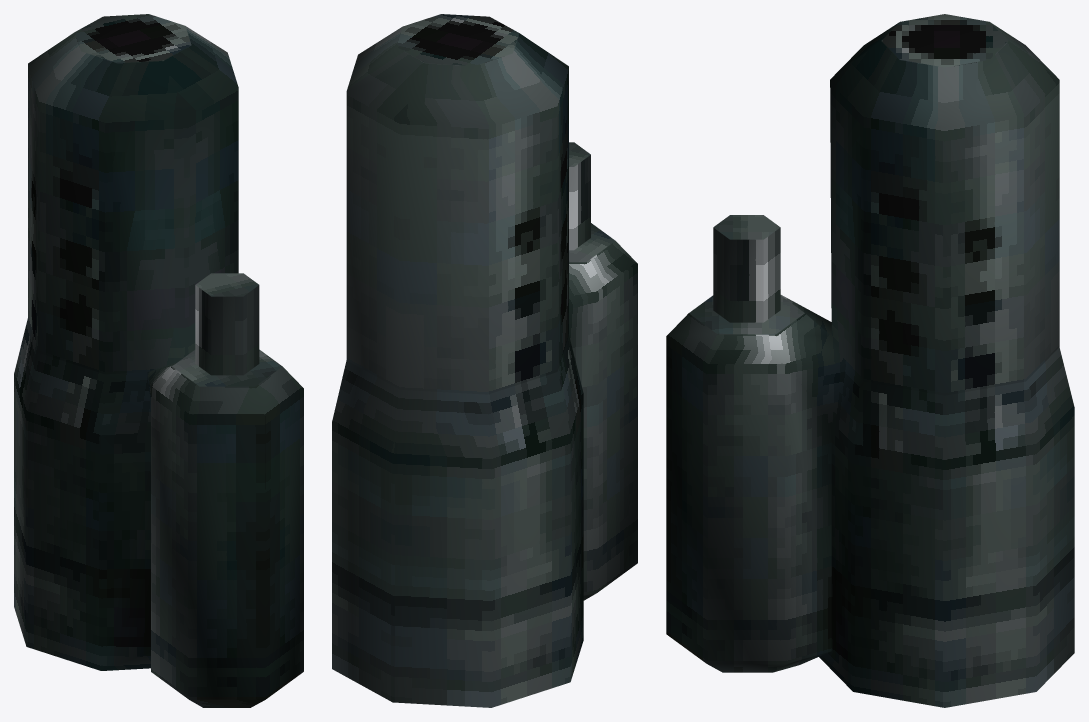
File: wp_muzzle_lg_s02_l0.fbx
3 views of the same model, side by side, from view 1: azimuth 30°, elevation 25°; view 2: azimuth 150°, elevation 25°; view 3: azimuth 270°, elevation 25° (orthographic). The views are drawn at different scales.
Parts seen in each view (by area): view 1: mesh_node; view 2: mesh_node; view 3: mesh_node.
Part boxes in pixels (<box>): mesh_node: <box>14,14,303,707</box>; mesh_node: <box>332,14,637,707</box>; mesh_node: <box>666,14,1074,707</box>.
Size of the model in its own units: 0.0433 by 0.113 by 0.0681.
Materials: 1 (1 with a texture image).
